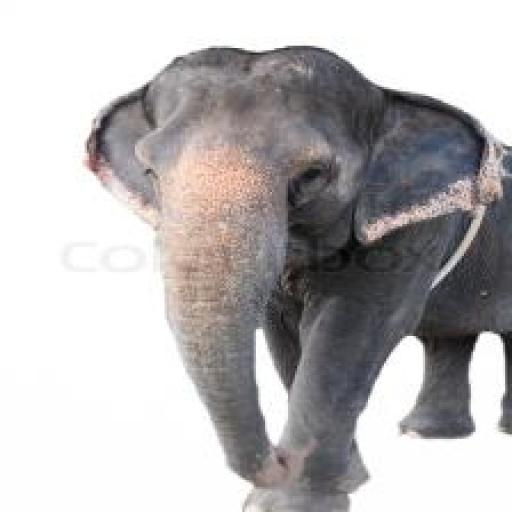Elephant: (87, 47, 511, 511)
